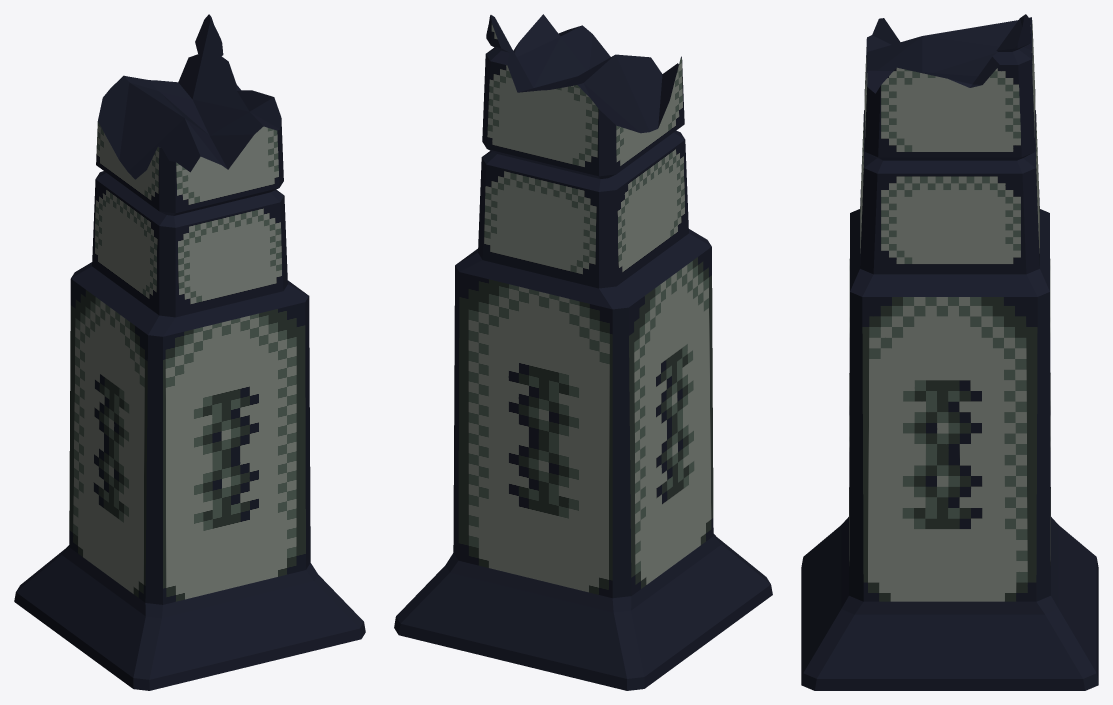
The model's file is column.fbx.
3 views of the same model, side by side, from view 1: azimuth 30°, elevation 25°; view 2: azimuth 150°, elevation 25°; view 3: azimuth 270°, elevation 25° (orthographic). The views are drawn at different scales.
Parts seen in each view (by area): view 1: column; view 2: column; view 3: column.
Part boxes in pixels (x1,y1,x2,y2): column: (14, 14, 365, 690); column: (394, 14, 772, 690); column: (801, 14, 1098, 690).
Bounding box in the file's own units: 3.88 × 9.02 × 3.79.
